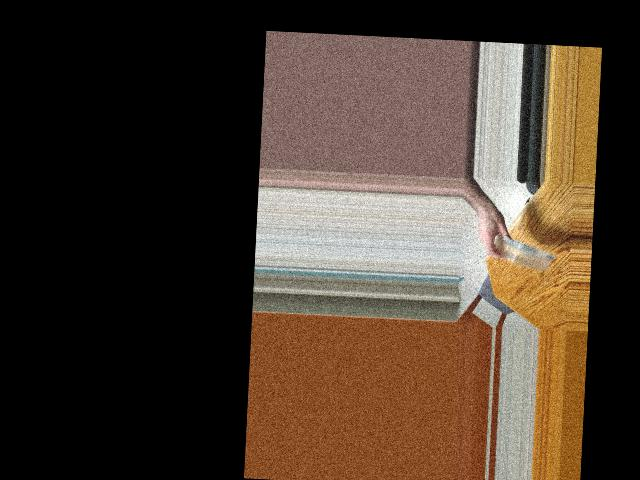cheese: (486, 240, 556, 268)
